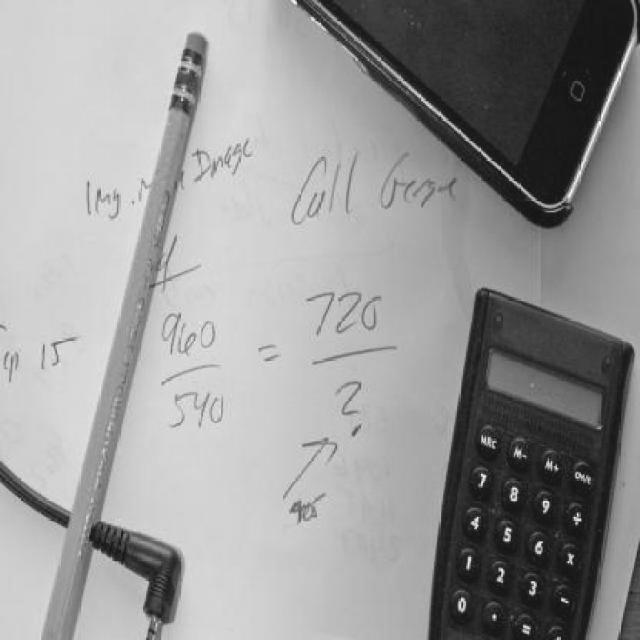fake: (289, 0, 640, 215)
